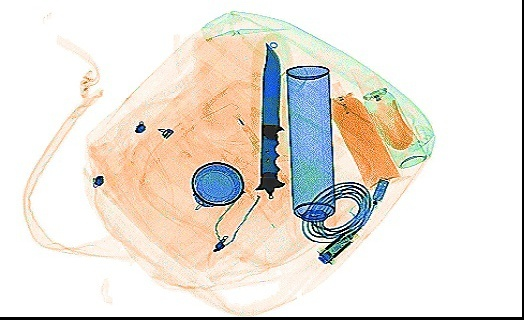knife: (253, 37, 286, 197)
pressure: (281, 62, 336, 227), (327, 79, 400, 191), (357, 69, 428, 169)
